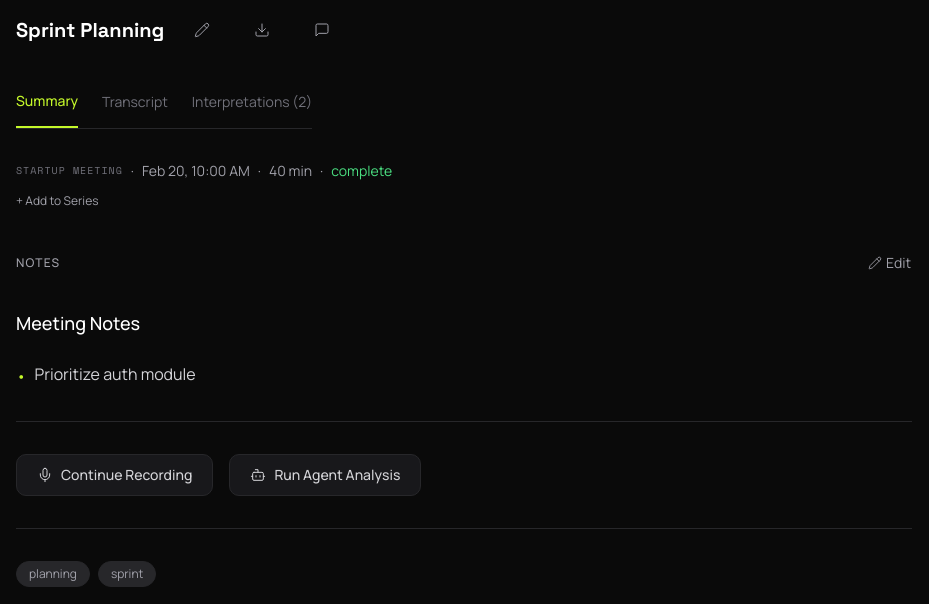
Test case: SessionView › Transcript tab shows "No transcript available." when empty
The width and height of the screenshot is (929, 604).
Expected: the heading "Sprint Planning" is shown, [16,16,164,44]
Click the button "Transcript" at (135, 106), box [102,84,168,128]
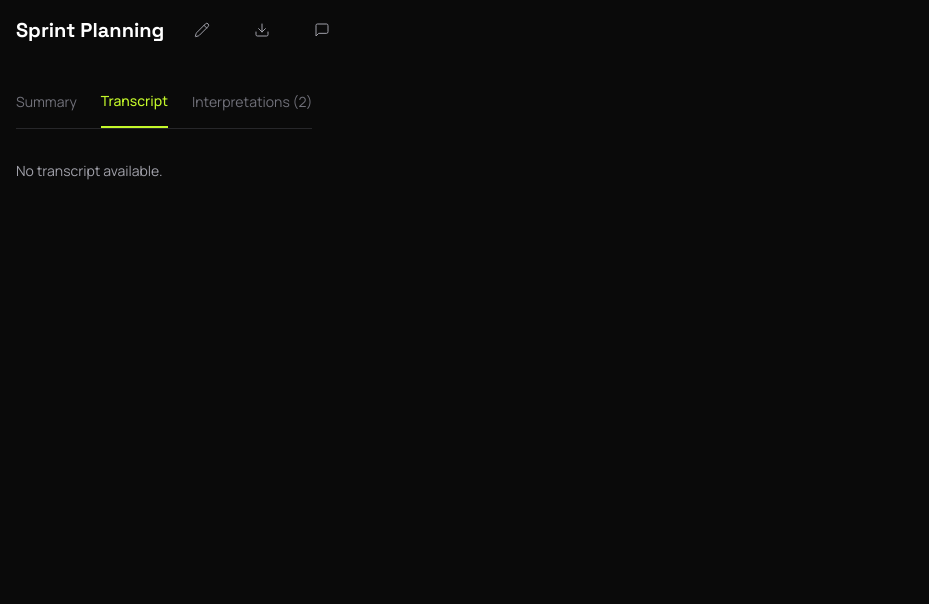
Expected: the text "No transcript available." is shown, [16,161,162,180]
